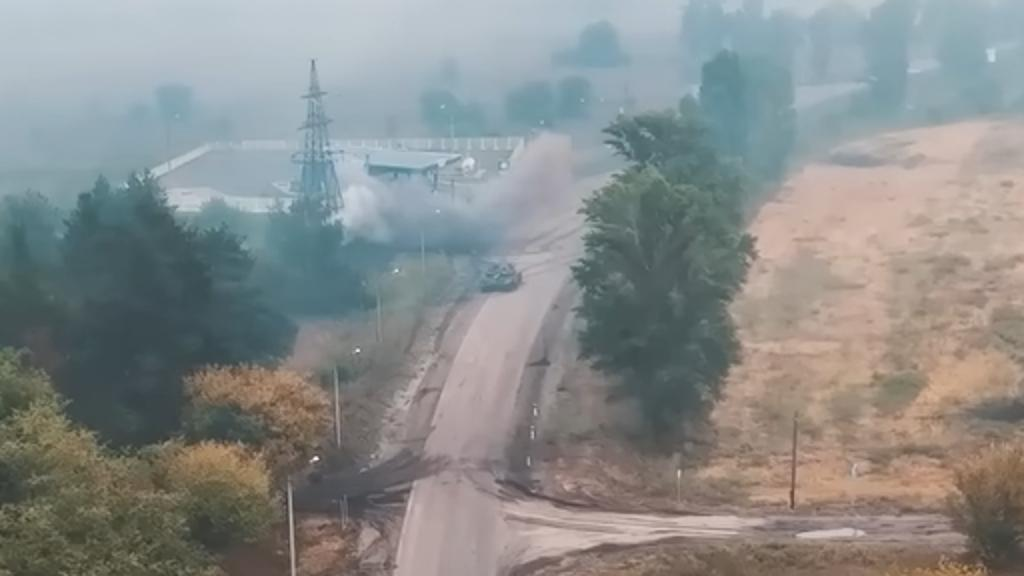TANK: (468, 250, 526, 294)
